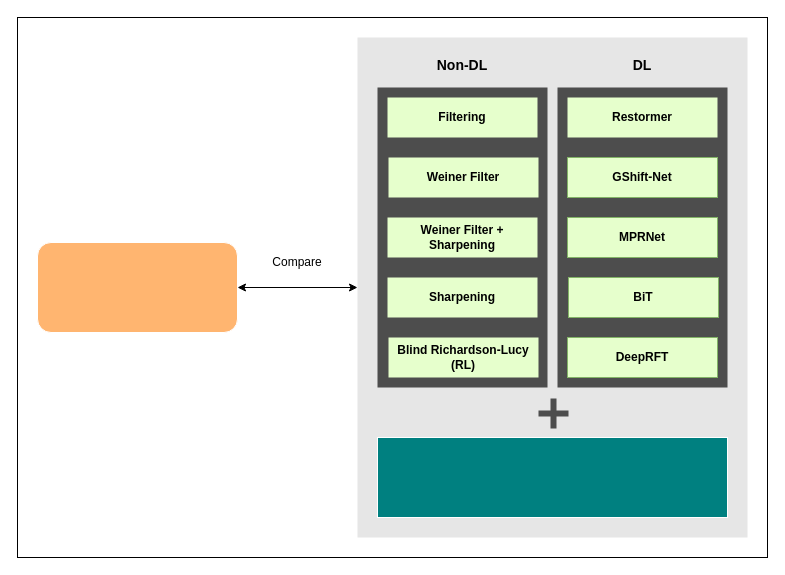
Image size: 785x575. Some labels were removed from this diagram. The shapes that lost their labels are listed below. From the top down, each one's centre as x and y in pixels, then its label:
At point 137,287: "Deblur-NeRF (Deblur and 3D-Reconstruction integrated together)".
At point 552,477: "Vanilla NeRF".
